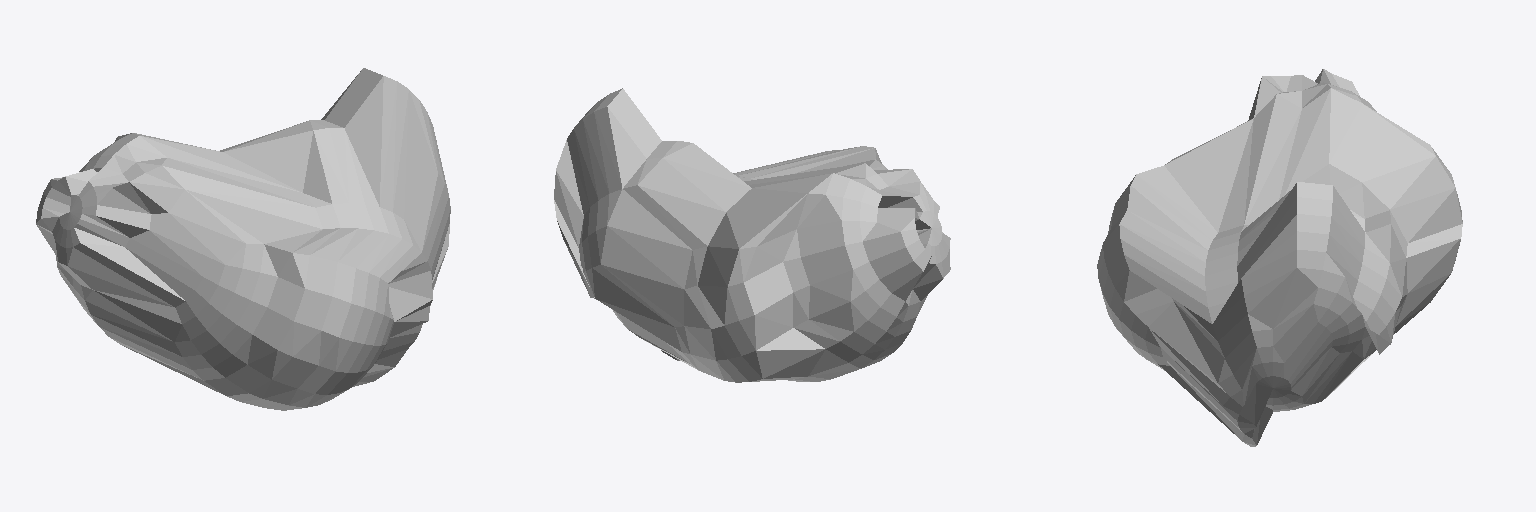
Rendered from Asteroid1.obj.
3 renders of one model, left to right at view 1: azimuth 30°, elevation 25°; view 2: azimuth 150°, elevation 25°; view 3: azimuth 270°, elevation 25°, orthographic.
Parts seen in each view (by area): view 1: pSphere1; view 2: pSphere1; view 3: pSphere1.
Boxes of the visible parts, <box> form: pSphere1: <box>36,68,450,410</box>; pSphere1: <box>554,88,950,382</box>; pSphere1: <box>1097,69,1462,446</box>.
Size of the model in its own units: 3.76 by 2.68 by 3.15.